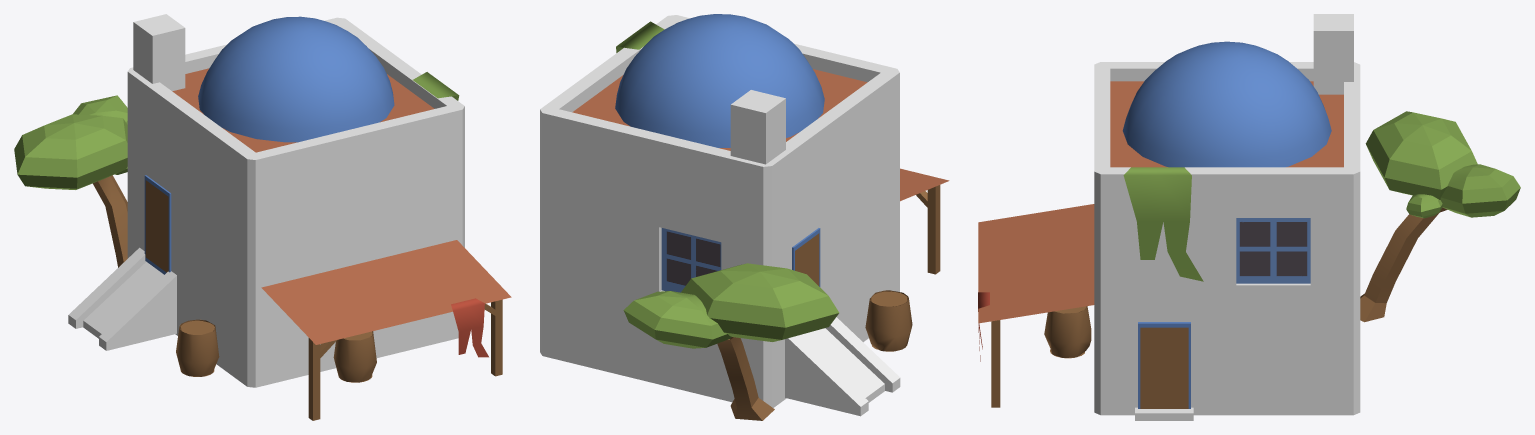
Rendered from House_1.fbx.
3 renders of one model, left to right at view 1: azimuth 30°, elevation 25°; view 2: azimuth 150°, elevation 25°; view 3: azimuth 270°, elevation 25°, orthographic. The views are drawn at different scales.
Parts seen in each view (by area): view 1: polySurface3, pSphere1, pPlane1, leaves, pCube10, chimney, pCube12, nurbsToPoly2, nurbsToPoly5, trunk, plants1, pCube2 (+2 smaller); view 2: polySurface3, pSphere1, leaves, pCube10, chimney, polySurface4, trunk, nurbsToPoly2, pCube2, pCube12, pPlane1, plants (+1 smaller); view 3: polySurface3, pSphere1, pPlane1, leaves, plants, polySurface2, pCube4, chimney, trunk, nurbsToPoly5, pCube3, pCube5.
Boxes of the visible parts, bbox=[...] form: polySurface3: bbox=[127, 17, 464, 387]; pSphere1: bbox=[198, 16, 394, 142]; pPlane1: bbox=[261, 240, 511, 344]; leaves: bbox=[14, 95, 127, 189]; pCube10: bbox=[68, 247, 176, 350]; chimney: bbox=[133, 14, 185, 91]; pCube12: bbox=[144, 175, 171, 274]; nurbsToPoly2: bbox=[176, 319, 219, 376]; nurbsToPoly5: bbox=[333, 331, 376, 382]; trunk: bbox=[93, 175, 127, 267]; plants1: bbox=[451, 298, 488, 357]; pCube2: bbox=[308, 338, 336, 420]; polySurface3: bbox=[540, 15, 899, 407]; pSphere1: bbox=[615, 14, 824, 147]; leaves: bbox=[623, 263, 839, 348]; pCube10: bbox=[785, 317, 900, 416]; chimney: bbox=[730, 90, 785, 164]; polySurface4: bbox=[661, 228, 721, 292]; trunk: bbox=[717, 337, 774, 420]; nurbsToPoly2: bbox=[865, 290, 912, 351]; pCube2: bbox=[916, 185, 940, 274]; pCube12: bbox=[792, 228, 820, 286]; pPlane1: bbox=[900, 168, 949, 201]; plants: bbox=[616, 21, 664, 52]; polySurface3: bbox=[1094, 62, 1360, 415]; pSphere1: bbox=[1122, 41, 1331, 167]; pPlane1: bbox=[978, 204, 1094, 323]; leaves: bbox=[1365, 111, 1520, 218]; plants: bbox=[1123, 167, 1203, 281]; polySurface2: bbox=[1236, 218, 1310, 283]; pCube4: bbox=[1138, 322, 1190, 408]; chimney: bbox=[1313, 14, 1353, 94]; trunk: bbox=[1360, 207, 1447, 322]; nurbsToPoly5: bbox=[1044, 306, 1091, 358]; pCube3: bbox=[991, 320, 1000, 407]; pCube5: bbox=[1135, 407, 1193, 420].
Size of the model in its own units: 7.25 by 6.46 by 10.21.
